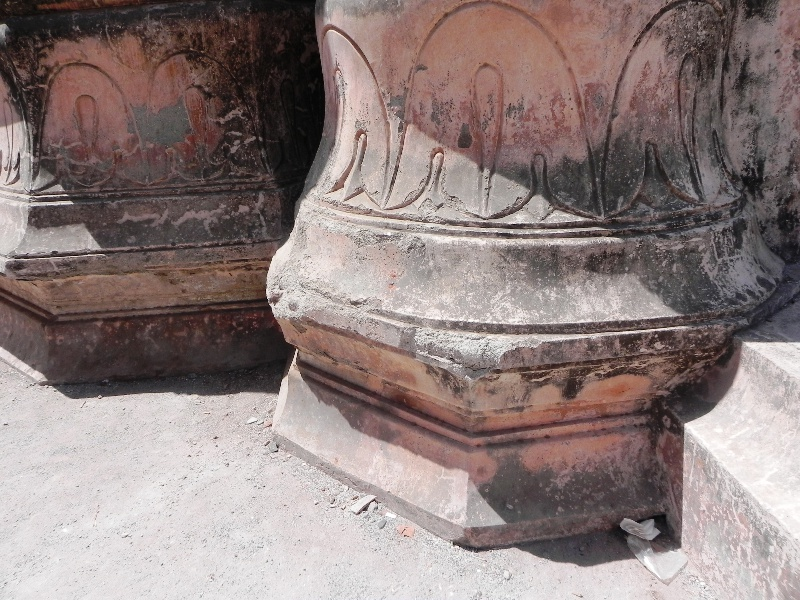Spalling: (131, 99, 193, 147)
